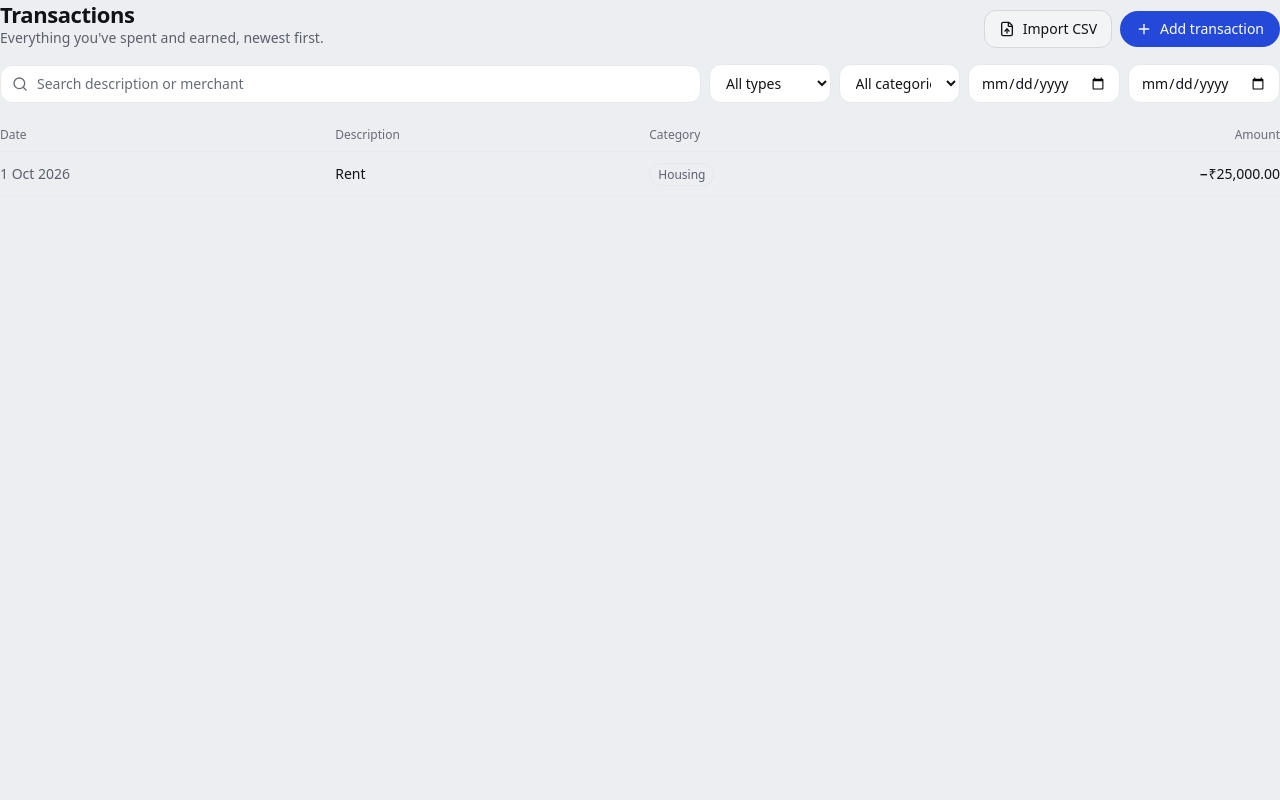
TransactionsPage › lists transactions as a table and as cards, both opening the same form
Check: the column heading "Amount" is shown, box [966,119,1279,152]
Click the button named "Edit Rent" at (350, 174), box [335,164,366,184]
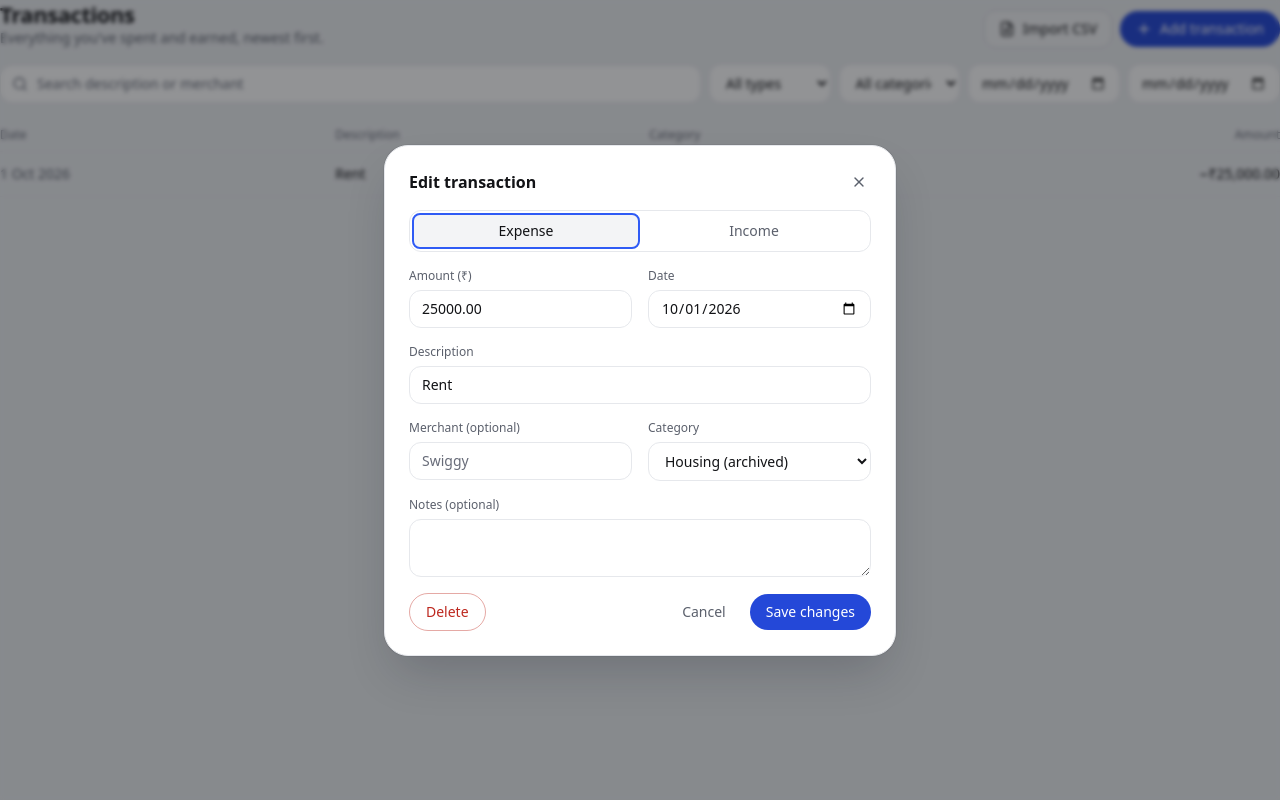
Check: the dialog "Edit transaction" is shown, box [384,144,896,656]
